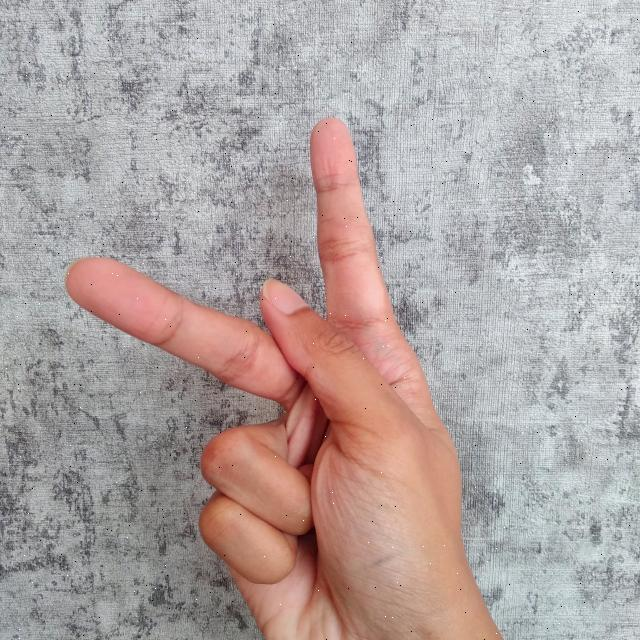K: (61, 114, 510, 640)
